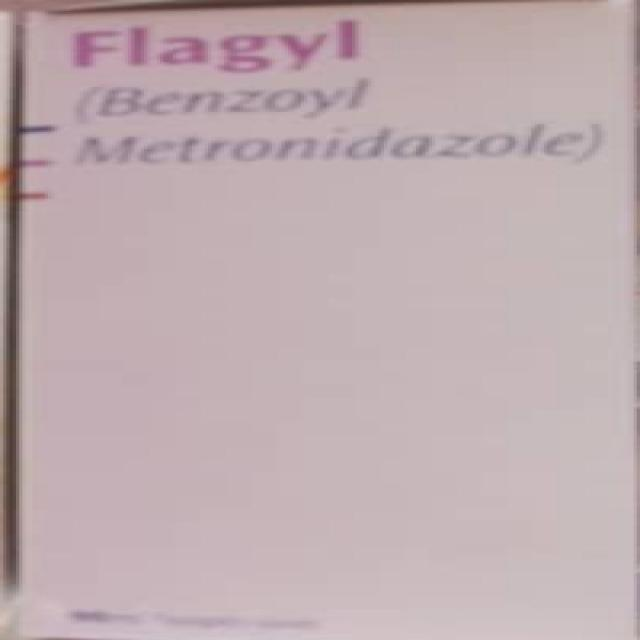drug-name: (59, 14, 392, 76)
